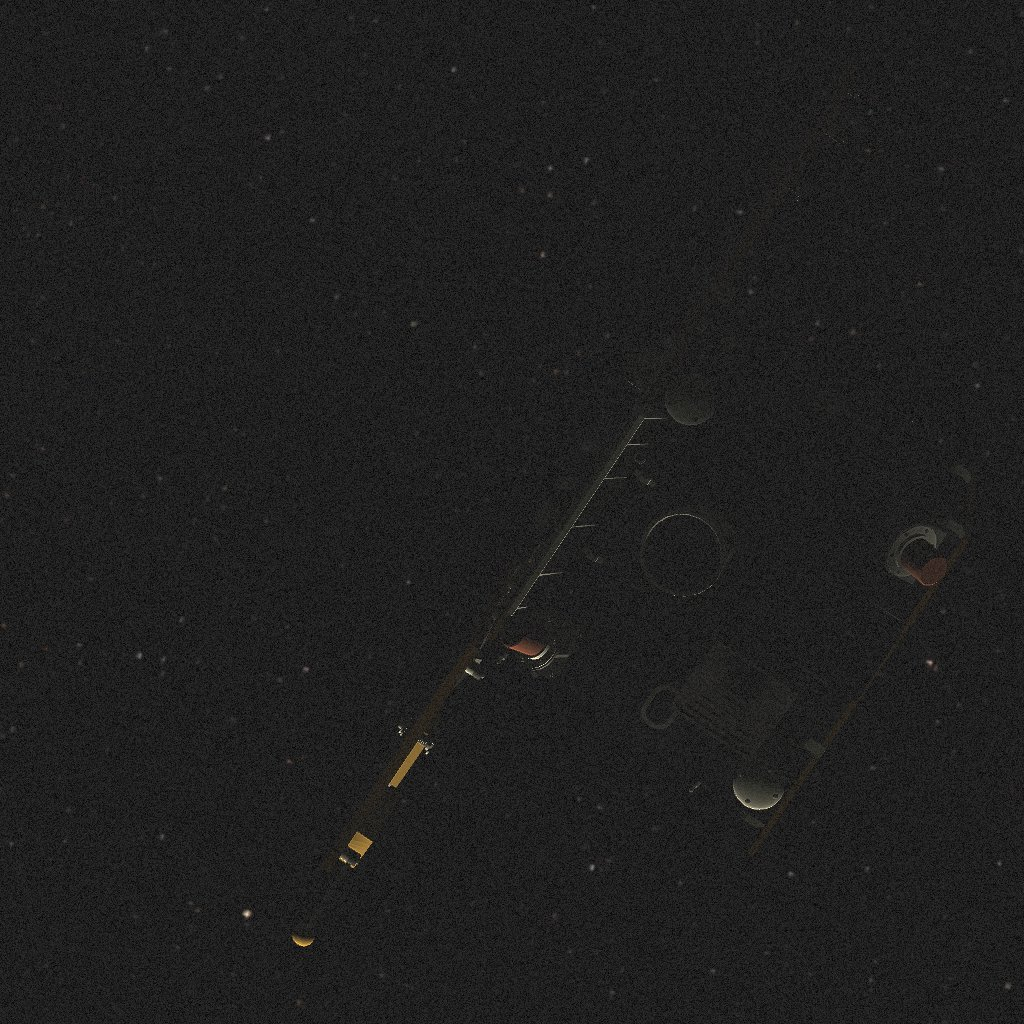proba_2: (292, 57, 978, 946)
